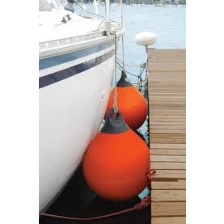buoy: (80, 133, 151, 203), (107, 85, 147, 128)
